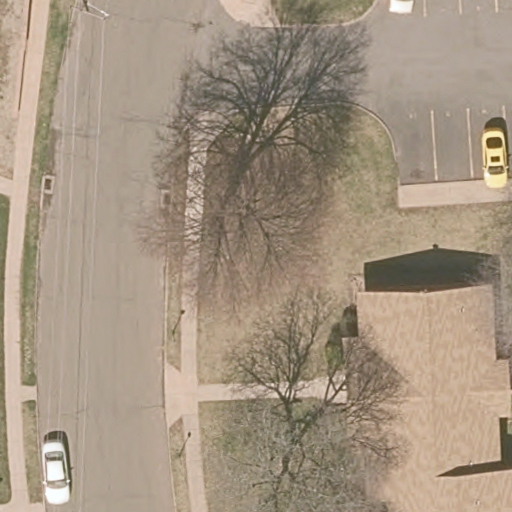DT: (67, 1, 111, 22)
